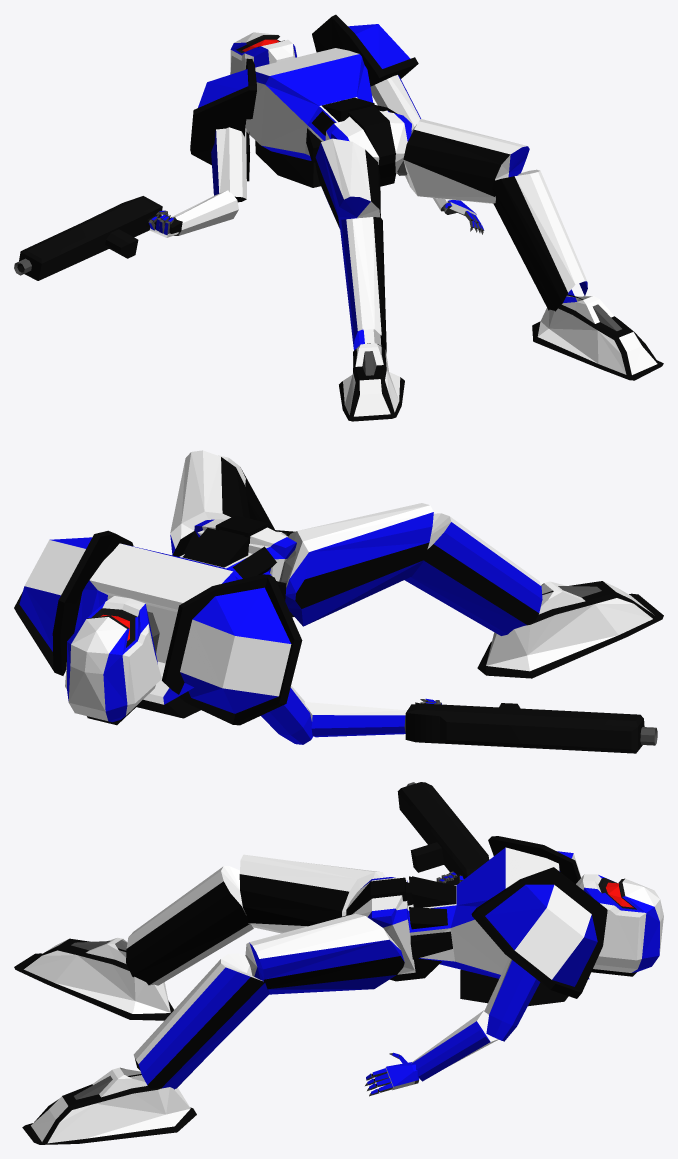
Rendered from robots_000005.obj.
The picture shows the model from 3 angles, top to bottom: view 1: azimuth 30°, elevation 25°; view 2: azimuth 150°, elevation 25°; view 3: azimuth 270°, elevation 25°; orthographic projection. The views are drawn at different scales.
Parts seen in each view (by area): view 1: Chest_plate_Cube.004, R_Thigh.002_Cube.027, R_Shin.002_Cube.029, R_Foot.002_Cube.035, Cube_Cube.001, R_Shin_Cube.007, R_Thigh_Cube.005, Cube.002_Cube.059, R_Foot_Cube, Pelvis_Cube.006, Cube_Cube.021, R_Arm_Cube.002 (+3 smaller); view 2: Cube.002_Cube.059, Chest_plate_Cube.004, R_Thigh_Cube.005, R_Foot_Cube, Cube_Cube.001, Head_base_Cube.022, R_Shin_Cube.007, Cube_Cube.021, R_Thigh.002_Cube.027, R_Forearm_Cube.008, Pelvis_Cube.006, R_Arm_Cube.002 (+1 smaller); view 3: Cube_Cube.021, Chest_plate_Cube.004, R_Thigh.002_Cube.027, R_Shin.002_Cube.029, R_Foot.002_Cube.035, R_Shin_Cube.007, R_Thigh_Cube.005, R_Foot_Cube, Head_base_Cube.022, Cube_Cube.001, Pelvis_Cube.006, L_Arm_Cube.014 (+3 smaller).
Boxes of the visible parts, left/top/right/bottom form: Chest_plate_Cube.004: left=246, top=48, right=397, bottom=187; R_Thigh.002_Cube.027: left=403, top=119, right=529, bottom=203; R_Shin.002_Cube.029: left=492, top=169, right=587, bottom=311; R_Foot.002_Cube.035: left=532, top=294, right=663, bottom=380; Cube_Cube.001: left=14, top=196, right=182, bottom=280; R_Shin_Cube.007: left=339, top=217, right=386, bottom=353; R_Thigh_Cube.005: left=315, top=138, right=380, bottom=228; Cube.002_Cube.059: left=190, top=58, right=256, bottom=181; R_Foot_Cube: left=339, top=343, right=404, bottom=421; Pelvis_Cube.006: left=325, top=106, right=411, bottom=186; Cube_Cube.021: left=312, top=14, right=418, bottom=86; R_Arm_Cube.002: left=211, top=125, right=246, bottom=202; Cube.002_Cube.059: left=162, top=574, right=302, bottom=725; Chest_plate_Cube.004: left=74, top=528, right=286, bottom=718; R_Thigh_Cube.005: left=285, top=503, right=433, bottom=626; R_Foot_Cube: left=477, top=581, right=663, bottom=678; Cube_Cube.001: left=405, top=702, right=657, bottom=753; Head_base_Cube.022: left=65, top=596, right=161, bottom=725; R_Shin_Cube.007: left=404, top=513, right=542, bottom=635; Cube_Cube.021: left=14, top=530, right=133, bottom=675; R_Thigh.002_Cube.027: left=170, top=450, right=250, bottom=554; R_Forearm_Cube.008: left=304, top=702, right=407, bottom=737; Pelvis_Cube.006: left=194, top=515, right=296, bottom=581; R_Arm_Cube.002: left=261, top=685, right=312, bottom=744; Cube_Cube.021: left=471, top=867, right=607, bottom=998; Chest_plate_Cube.004: left=408, top=847, right=589, bottom=1006; R_Thigh.002_Cube.027: left=245, top=913, right=404, bottom=994; R_Shin.002_Cube.029: left=133, top=953, right=269, bottom=1089; R_Foot.002_Cube.035: left=22, top=1067, right=196, bottom=1144; R_Shin_Cube.007: left=126, top=866, right=254, bottom=985; R_Thigh_Cube.005: left=239, top=854, right=385, bottom=933; R_Foot_Cube: left=14, top=937, right=173, bottom=1020; Head_base_Cube.022: left=576, top=874, right=663, bottom=976; Cube_Cube.001: left=397, top=782, right=489, bottom=885; Pelvis_Cube.006: left=346, top=877, right=441, bottom=981; L_Arm_Cube.014: left=484, top=957, right=540, bottom=1041.
Bounding box in the file's own units: 2.98 × 1.22 × 3.16.
